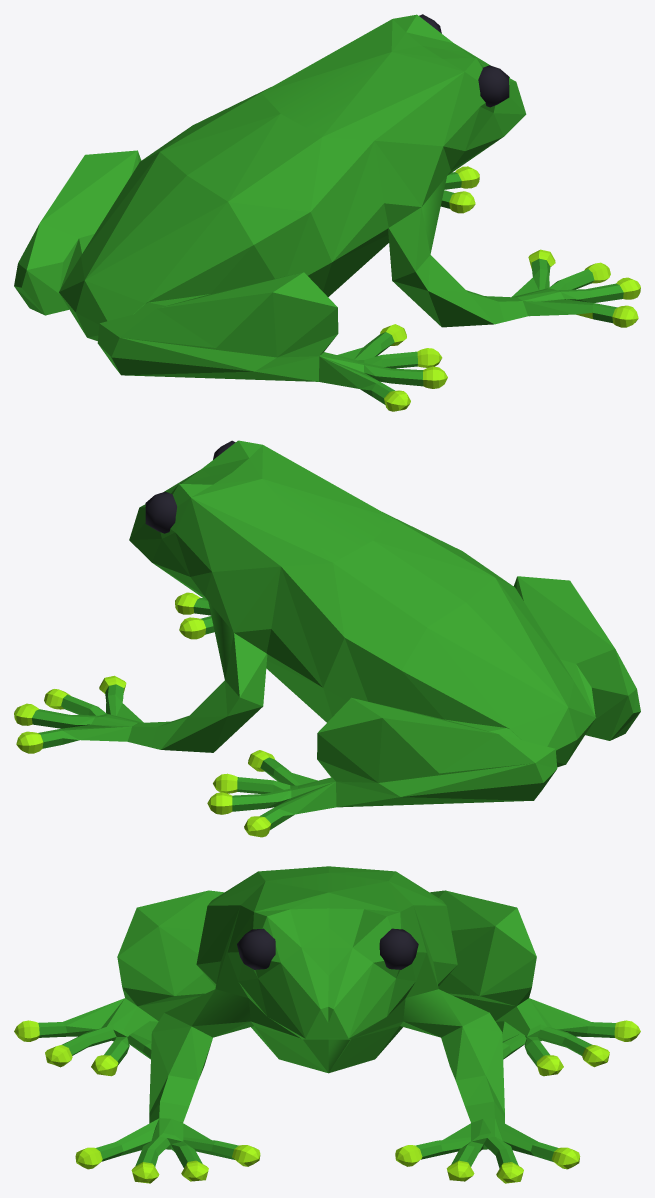
The model's file is mesh_grenouille.fbx.
The picture shows the model from 3 angles, top to bottom: view 1: azimuth 30°, elevation 25°; view 2: azimuth 150°, elevation 25°; view 3: azimuth 270°, elevation 25°; orthographic projection.
Visible parts, largest first — view 1: Plane004; view 2: Plane004; view 3: Plane004.
Boxes of the visible parts, <box> form: Plane004: <box>14,14,640,411</box>; Plane004: <box>14,440,640,837</box>; Plane004: <box>14,866,640,1183</box>.
Bounding box in the file's own units: 19.29 × 8.18 × 21.07.
